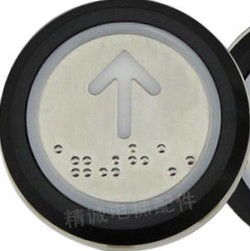Braille: (127, 142, 151, 178), (98, 145, 121, 179), (185, 144, 208, 178), (156, 143, 178, 178), (71, 144, 92, 178), (54, 144, 71, 176)
